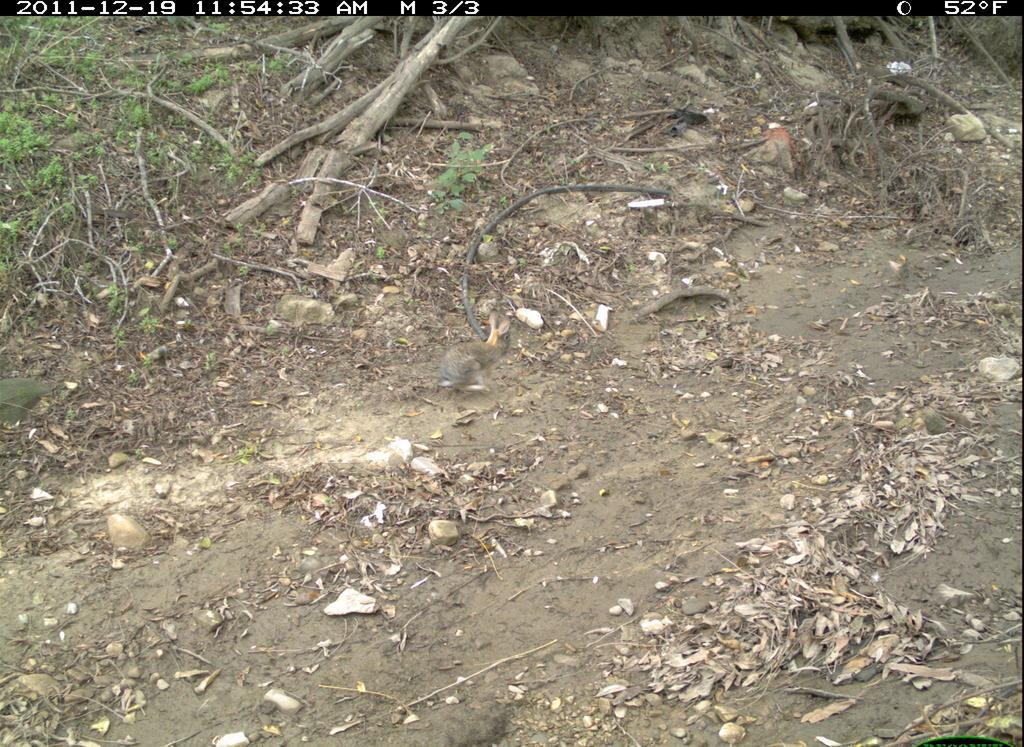rabbit: (428, 309, 537, 406)
